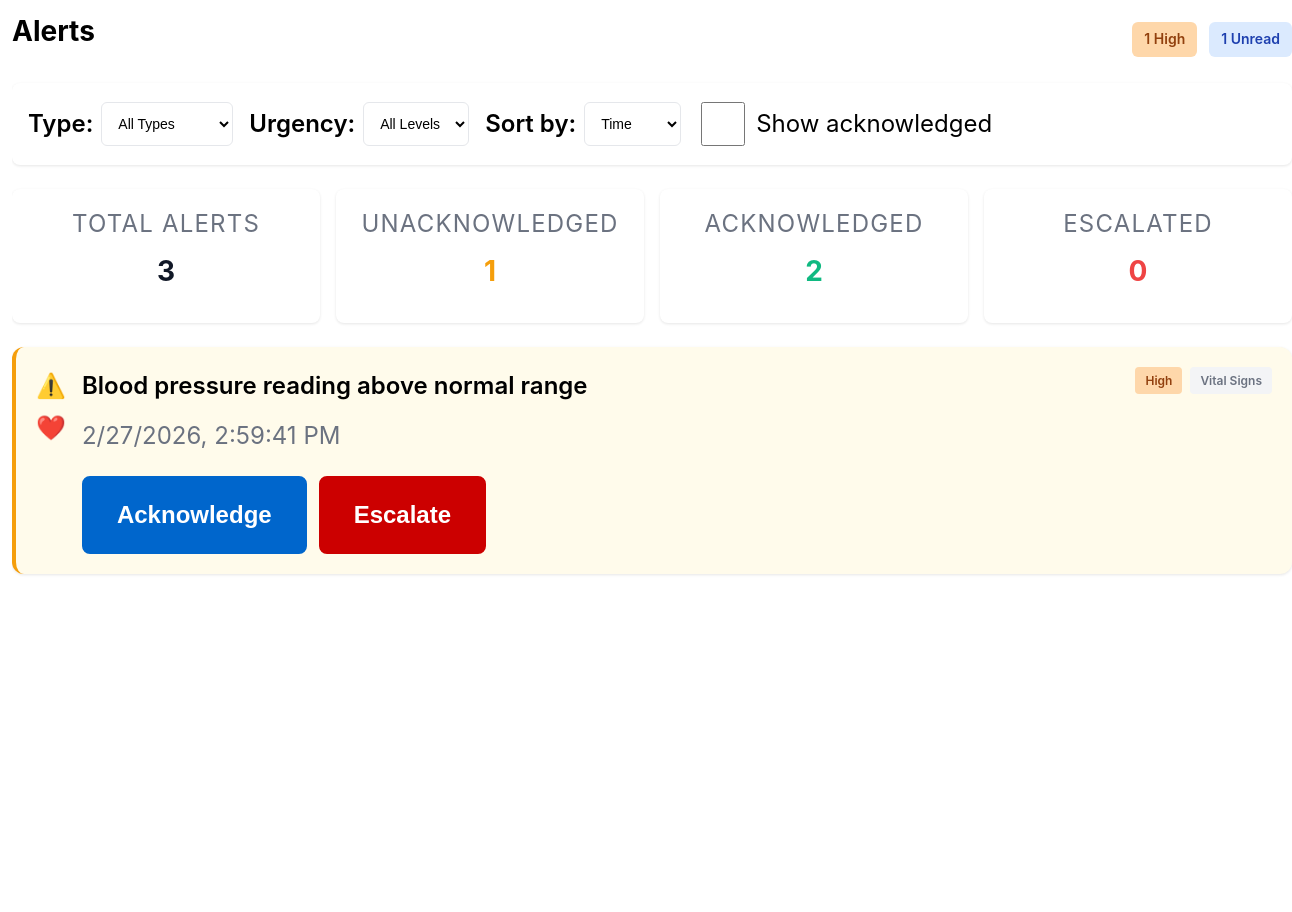
AlertsPanelWidget › Alert History and Resolution Status › should display acknowledgment timestamp for acknowledged alerts
This screenshot has width=1292, height=912.
Expected: the text "Blood pressure reading above normal range" is shown, x1=82 y1=367 x2=588 y2=405
// Show acknowledged alerts
Click the checkbox named "Show acknowledged alerts". click: [723, 124]
box: x1=701 y1=102 x2=745 y2=146
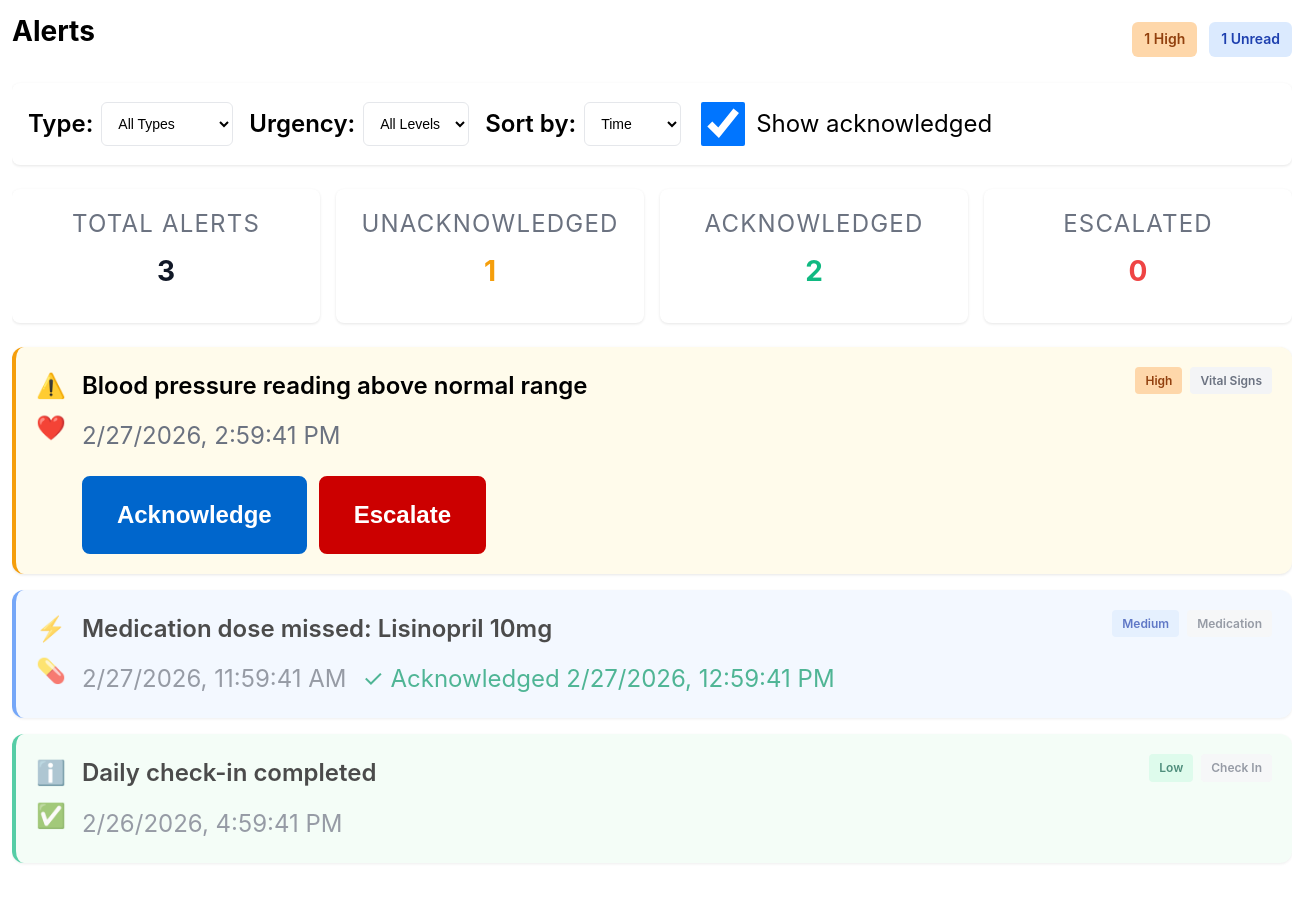
Now the text "✓ Acknowledged 2/27/2026, 12:59:41 PM" is shown, box x1=362 y1=660 x2=835 y2=698
